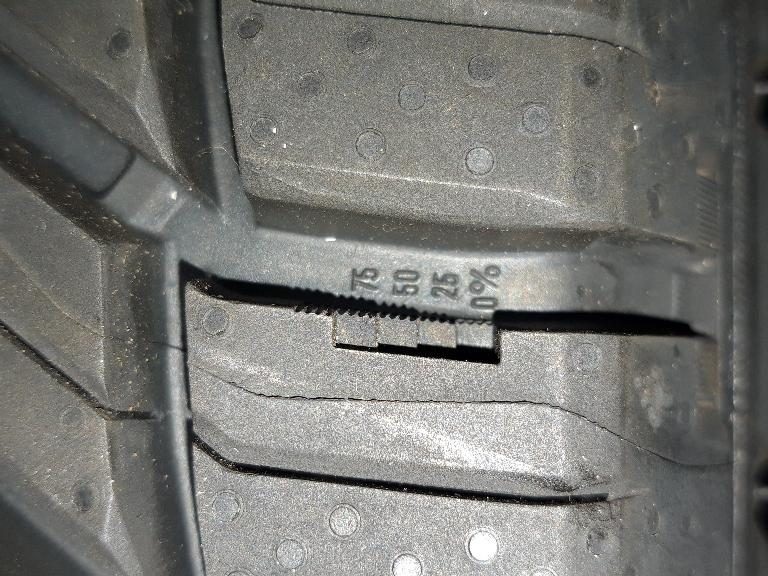temoin:100: (286, 287, 511, 375)
